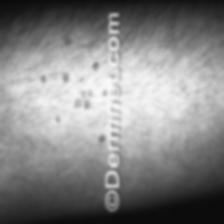Toxin: (72, 84, 94, 113), (99, 132, 106, 142), (40, 73, 46, 83)
